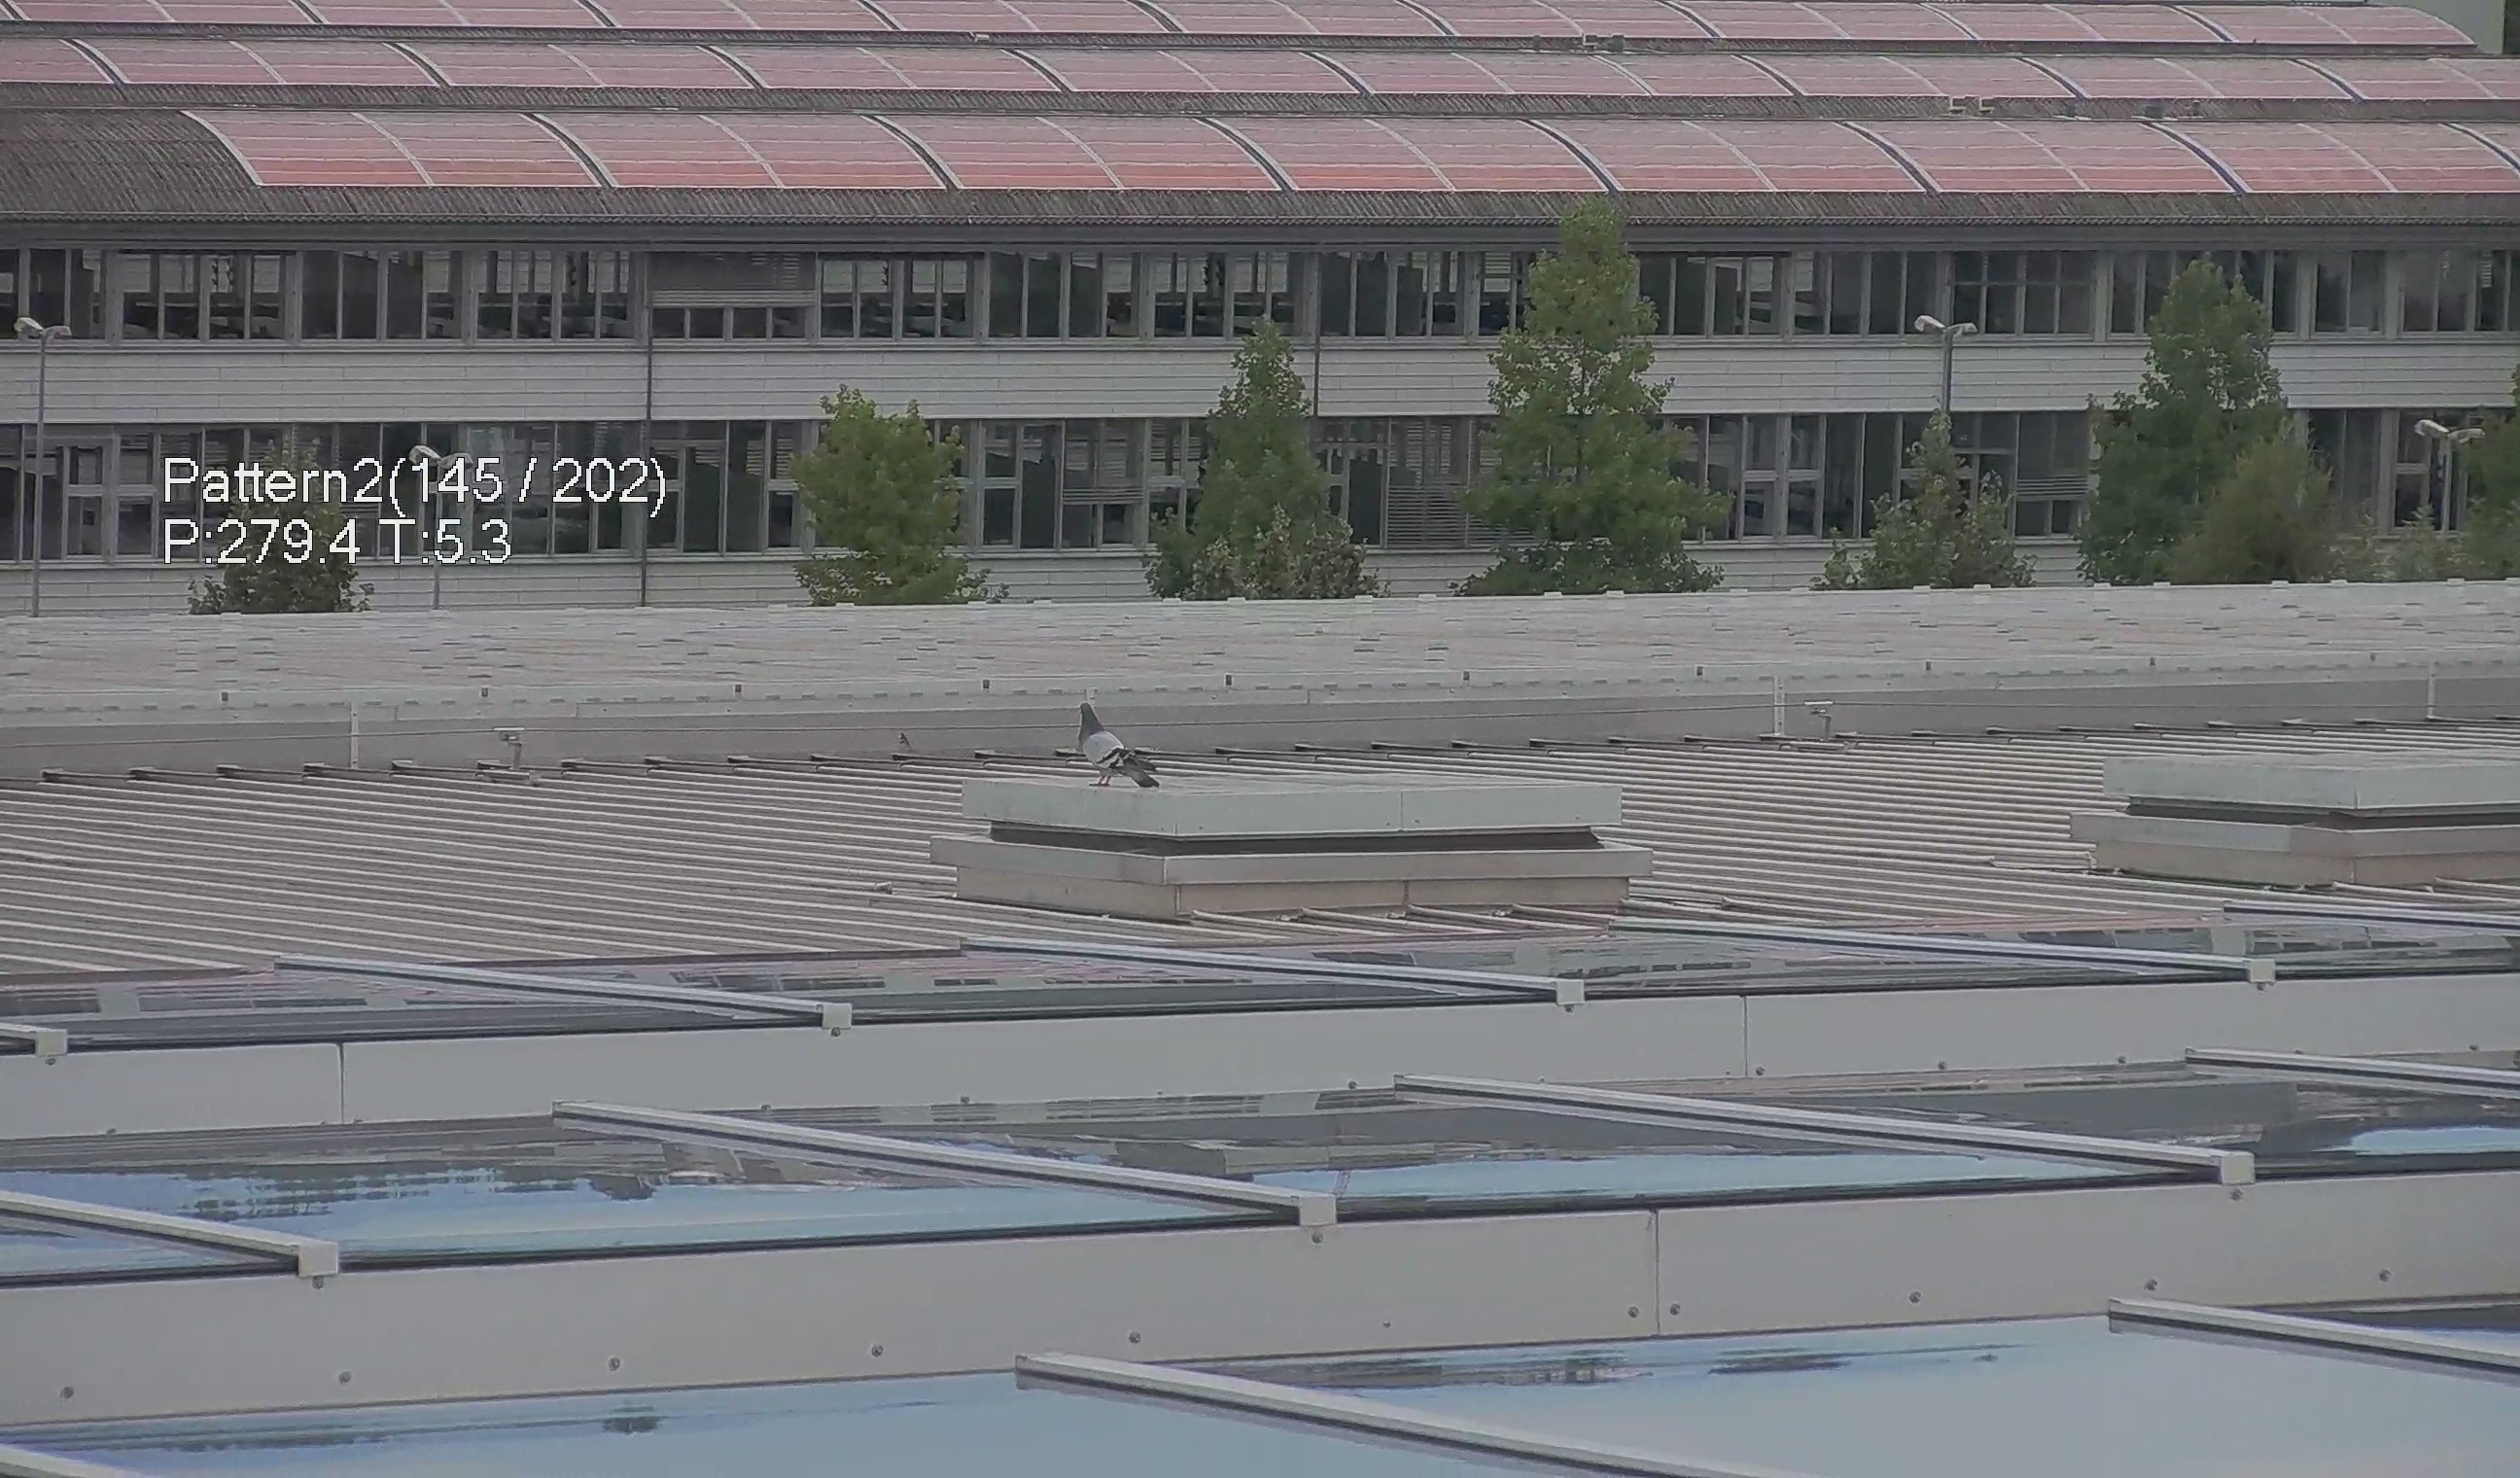Pigeon: (1059, 691, 1171, 797)
